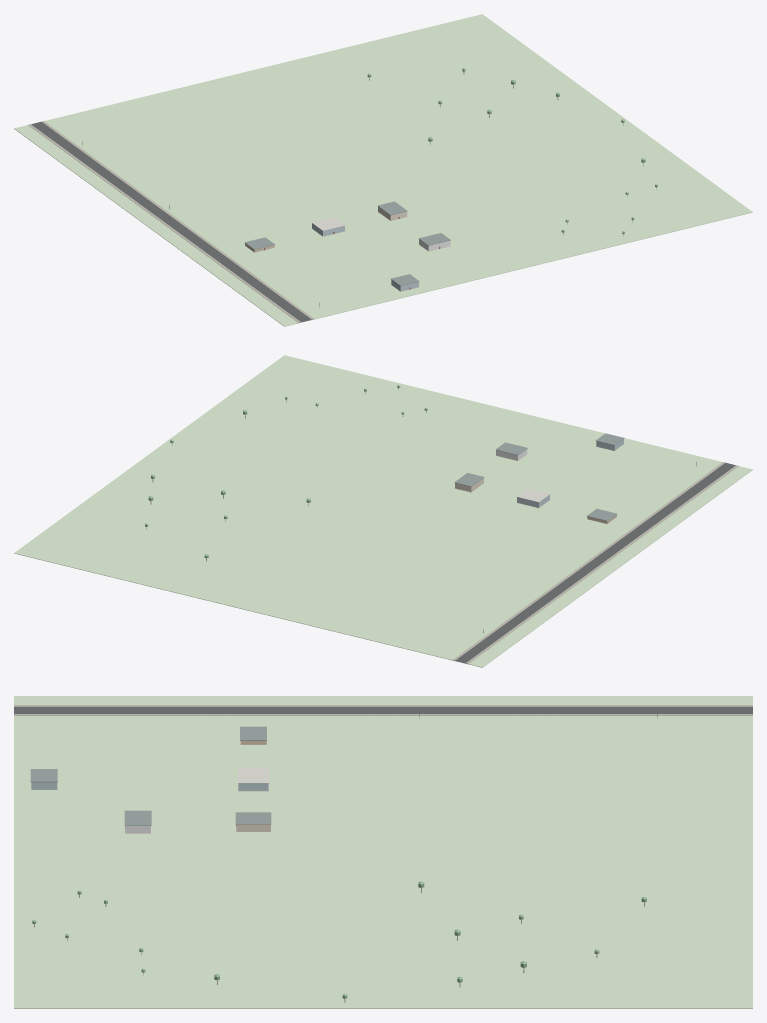
The model's file is chunk_2_1_low.glb.
3 views of the same model, one above another, from view 1: azimuth 30°, elevation 25°; view 2: azimuth 150°, elevation 25°; view 3: azimuth 270°, elevation 25° (orthographic). The views are drawn at different scales.
Parts seen in each view (by area): view 1: city_grass, city_world_asphalt, city_world_sidewalk, city_roof_slate, city_curb; view 2: city_grass, city_world_asphalt, city_world_sidewalk, city_roof_slate, city_curb; view 3: city_grass, city_world_asphalt, city_world_sidewalk, city_roof_slate, city_curb.
Part boxes in pixels (x1=…): city_grass: x1=14, y1=14, x2=752, y2=326; city_world_asphalt: x1=31, y1=122, x2=311, y2=322; city_world_sidewalk: x1=28, y1=121, x2=313, y2=322; city_roof_slate: x1=244, y1=201, x2=450, y2=285; city_curb: x1=31, y1=121, x2=311, y2=321; city_grass: x1=14, y1=355, x2=752, y2=667; city_world_asphalt: x1=455, y1=463, x2=735, y2=663; city_world_sidewalk: x1=453, y1=462, x2=738, y2=663; city_roof_slate: x1=454, y1=433, x2=624, y2=521; city_curb: x1=455, y1=462, x2=735, y2=662; city_grass: x1=14, y1=696, x2=752, y2=1008; city_world_asphalt: x1=14, y1=707, x2=752, y2=713; city_world_sidewalk: x1=14, y1=705, x2=752, y2=715; city_roof_slate: x1=30, y1=726, x2=271, y2=825; city_curb: x1=14, y1=705, x2=752, y2=715.
Bounding box in the file's own units: 512 × 9.5 × 512.
